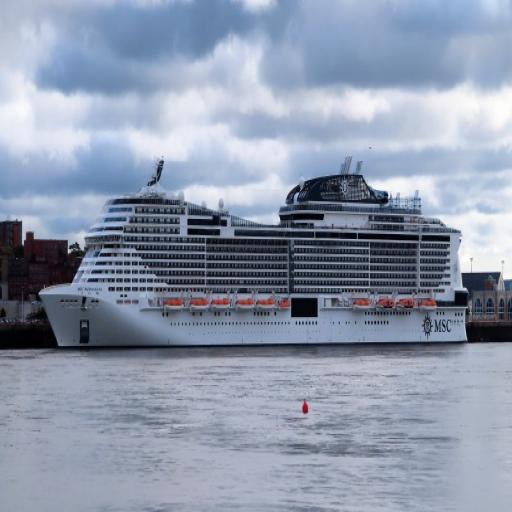cruises: (38, 152, 472, 357)
